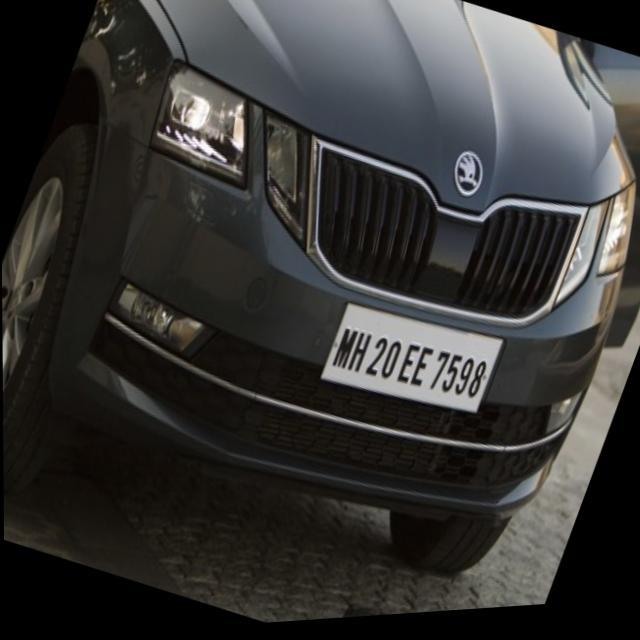license_plate: (316, 292, 502, 432)
